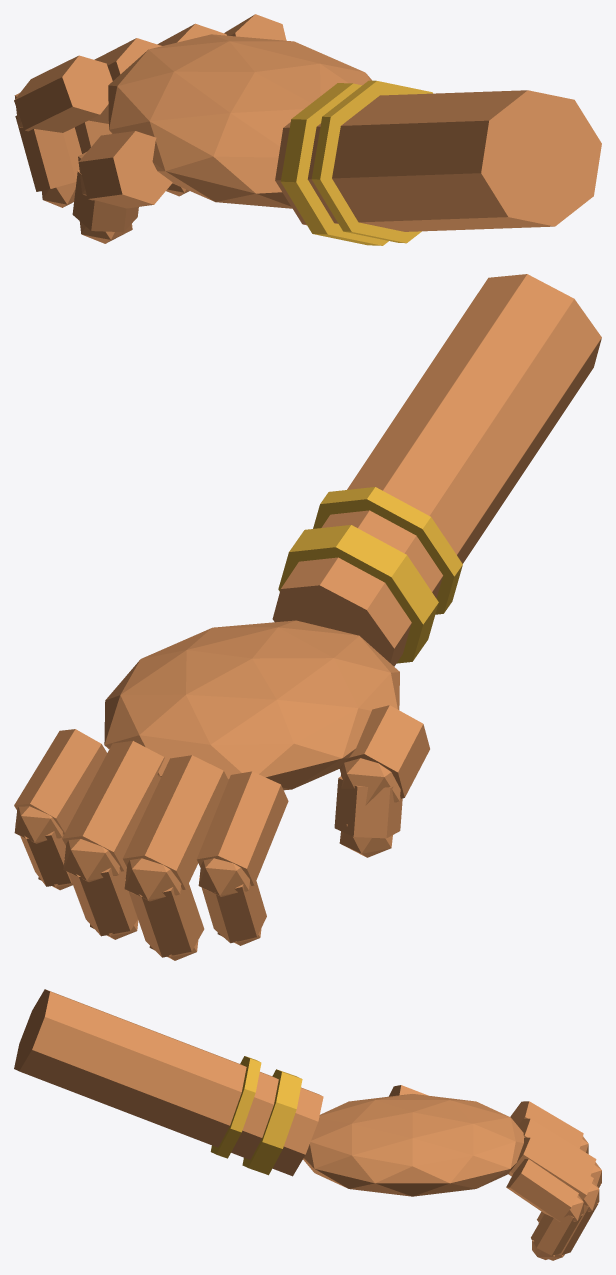
The model's file is hand_grab.glb.
3 renders of one model, top to bottom at view 1: azimuth 30°, elevation 25°; view 2: azimuth 150°, elevation 25°; view 3: azimuth 270°, elevation 25°, orthographic. The views are drawn at different scales.
Visible parts, largest first — view 1: part, part.003, part.004, part.020, part.001, part.002, part.006, part.022, part.008, part.016, part.010, part.007 (+2 smaller); view 2: part, part.003, part.008, part.012, part.001, part.004, part.016, part.002, part.020, part.010, part.022, part.014 (+7 smaller); view 3: part, part.003, part.001, part.016, part.012, part.002, part.008, part.018, part.004, part.014.
Part boxes in pixels (left/top/right/bottom): part: left=275, top=90, right=601, bottom=231; part.003: left=108, top=34, right=371, bottom=208; part.004: left=14, top=55, right=112, bottom=132; part.020: left=78, top=131, right=172, bottom=208; part.001: left=280, top=83, right=388, bottom=245; part.002: left=311, top=80, right=432, bottom=243; part.006: left=15, top=115, right=81, bottom=191; part.022: left=72, top=170, right=138, bottom=232; part.008: left=89, top=38, right=161, bottom=123; part.016: left=224, top=14, right=286, bottom=40; part.010: left=75, top=120, right=111, bottom=153; part.007: left=41, top=182, right=76, bottom=207; part: left=272, top=274, right=601, bottom=666; part.003: left=104, top=620, right=399, bottom=790; part.008: left=123, top=755, right=228, bottom=889; part.012: left=62, top=741, right=164, bottom=871; part.001: left=278, top=525, right=438, bottom=663; part.004: left=196, top=771, right=288, bottom=885; part.016: left=14, top=729, right=107, bottom=834; part.002: left=313, top=487, right=462, bottom=614; part.020: left=339, top=705, right=429, bottom=798; part.010: left=125, top=879, right=204, bottom=957; part.022: left=334, top=776, right=402, bottom=838; part.014: left=64, top=859, right=137, bottom=936; part: left=14, top=989, right=323, bottom=1176; part.003: left=303, top=1094, right=524, bottom=1196; part.001: left=242, top=1069, right=302, bottom=1175; part.016: left=506, top=1159, right=578, bottom=1221; part.012: left=508, top=1137, right=593, bottom=1200; part.002: left=210, top=1056, right=261, bottom=1158; part.008: left=518, top=1118, right=596, bottom=1175; part.018: left=531, top=1214, right=582, bottom=1255; part.004: left=510, top=1101, right=583, bottom=1148; part.014: left=559, top=1203, right=598, bottom=1255.
Size of the model in its own units: 1.93 by 2.63 by 5.33.
